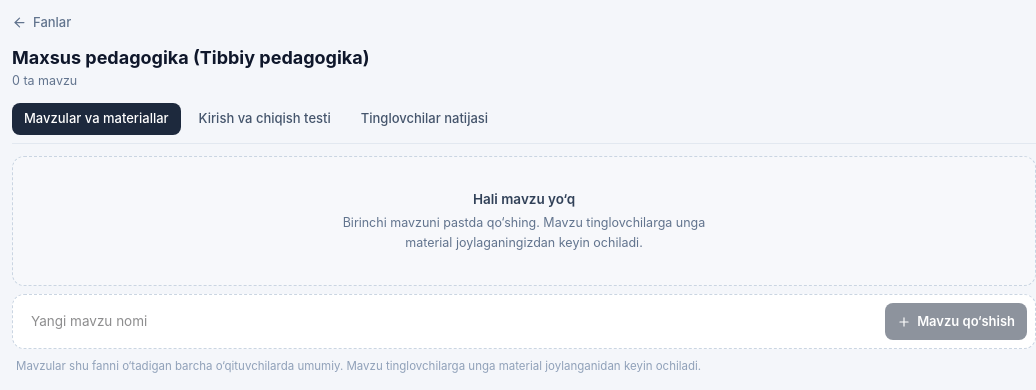
it: OnlineTeacherCabinet › lets a teacher with a single course get back to the course list
Expected: the heading "Maxsus pedagogika (Tibbiy pedagogika)" is shown, [12,47,370,68]
Click the button "Fanlar". click: (42, 23)
box: [12,13,71,32]
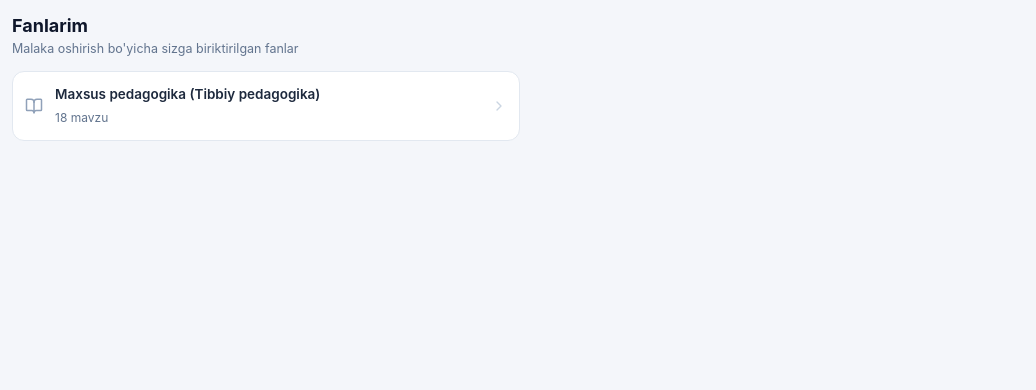
Expected: the text "Maxsus pedagogika (Tibbiy pedagogika)" is shown, [55,86,320,102]
Now the heading "Fanlarim" is shown, box [12,15,88,36]
